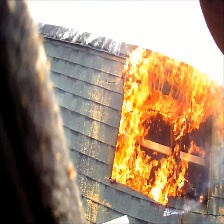fire: (103, 42, 224, 207)
